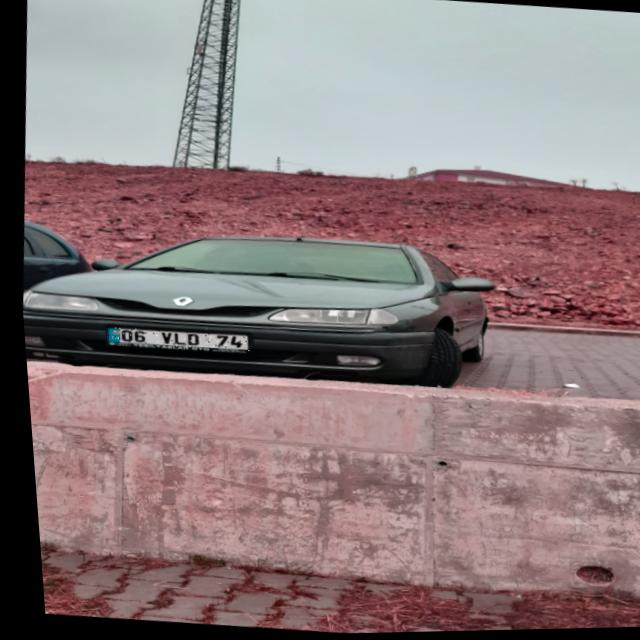license_plate: (99, 325, 245, 354)
